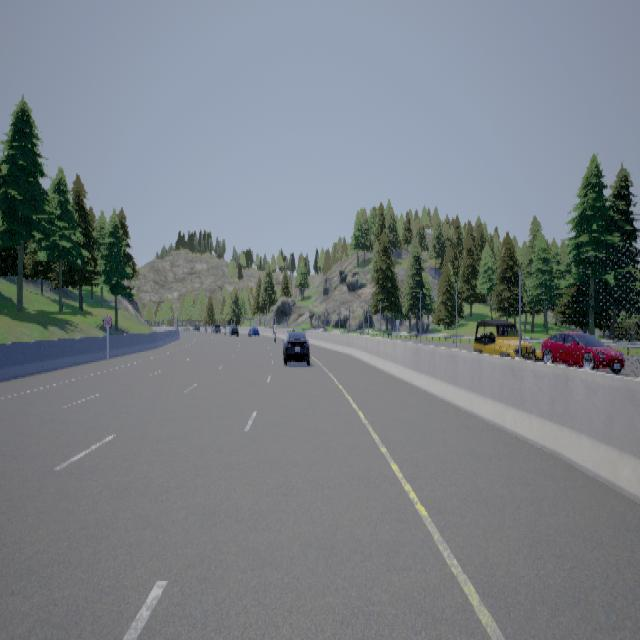bike: (273, 320, 280, 345)
traffic_sign: (104, 313, 113, 327)
vehicle: (541, 330, 626, 374), (474, 318, 539, 371), (283, 330, 311, 364), (230, 320, 242, 339), (248, 323, 262, 337)
